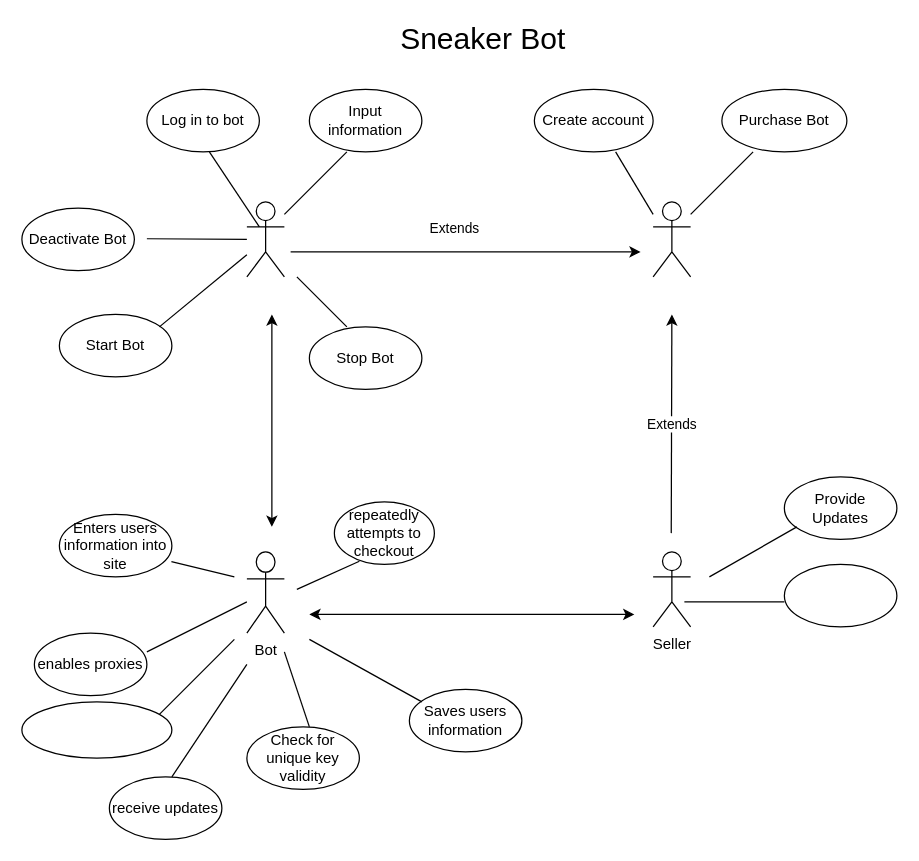
Image size: 919x861. Some labels were removed from this diagram. The centre of each missing label's shape, as x and y in pixels:
"Buyer" goes at pixel 265 239.
"Generic User" goes at pixel 671 239.
"Provide unique key" goes at pixel 840 595.
"Report success or failure to user (email or in console)" goes at pixel 96 729.
